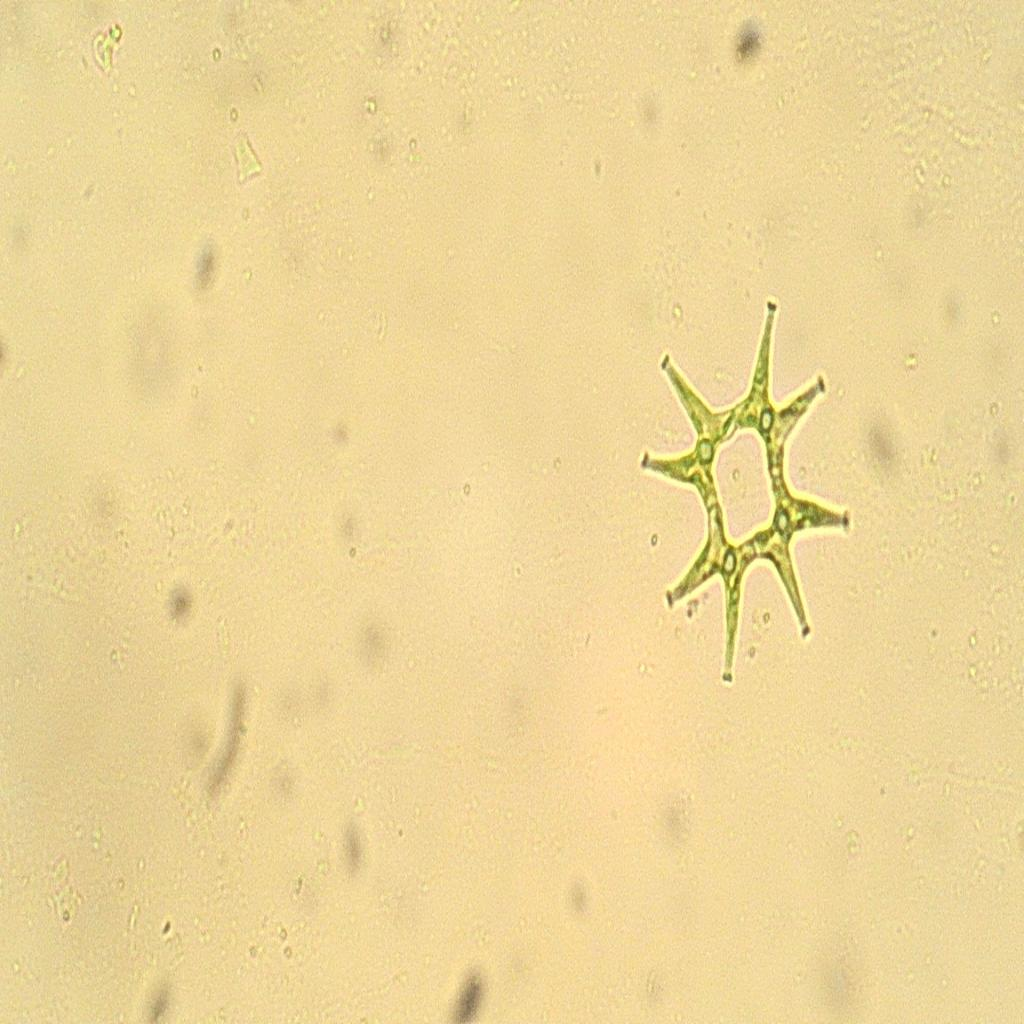Pediastrum_CO: (625, 288, 877, 690)
